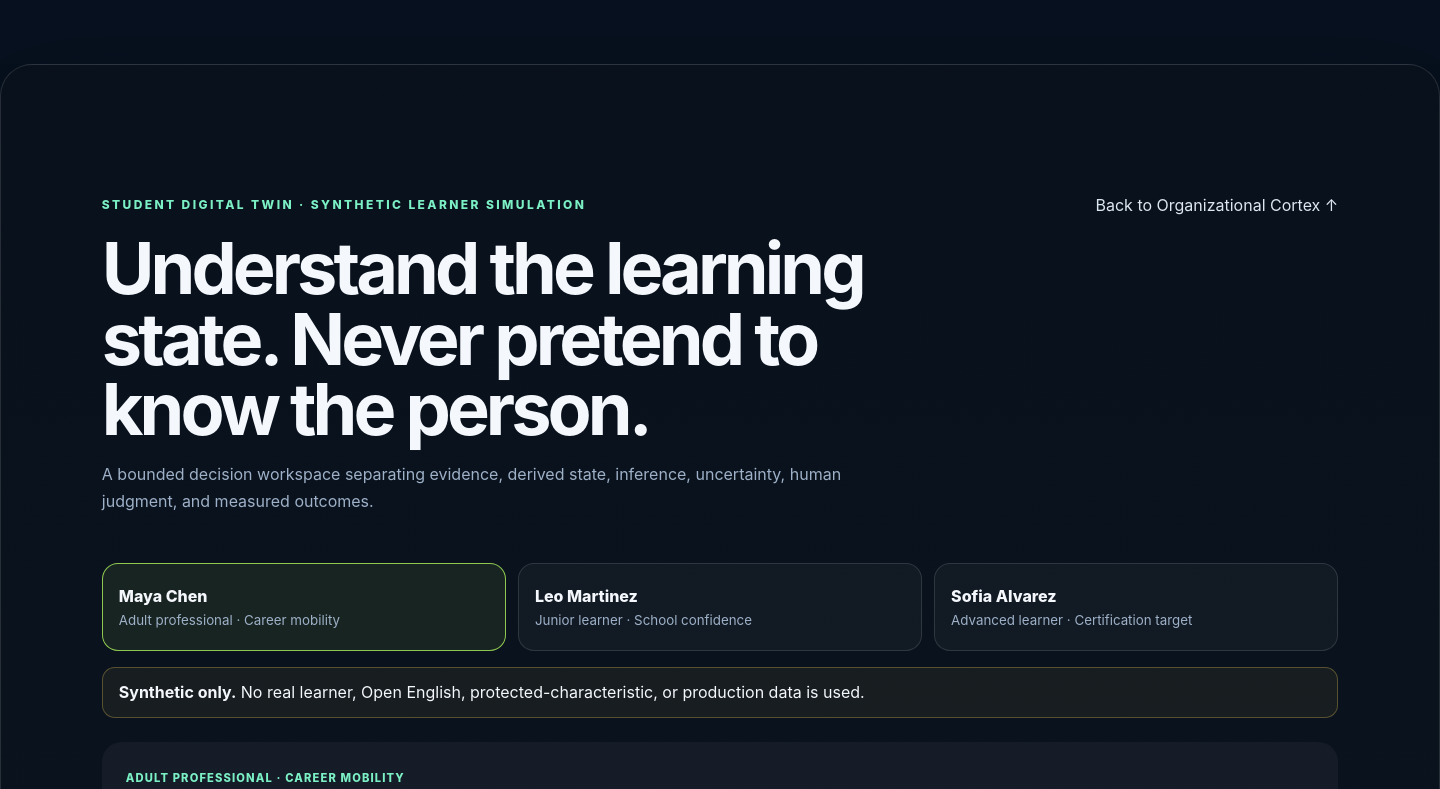
Student Digital Twin workspace › elevates age-aware safeguards for the junior learner
This screenshot has width=1440, height=789.
Click the tab "Leo Martinez Junior learner · School confidence".
click(586, 596)  # box [518,563,922,651]
(page scrolled)
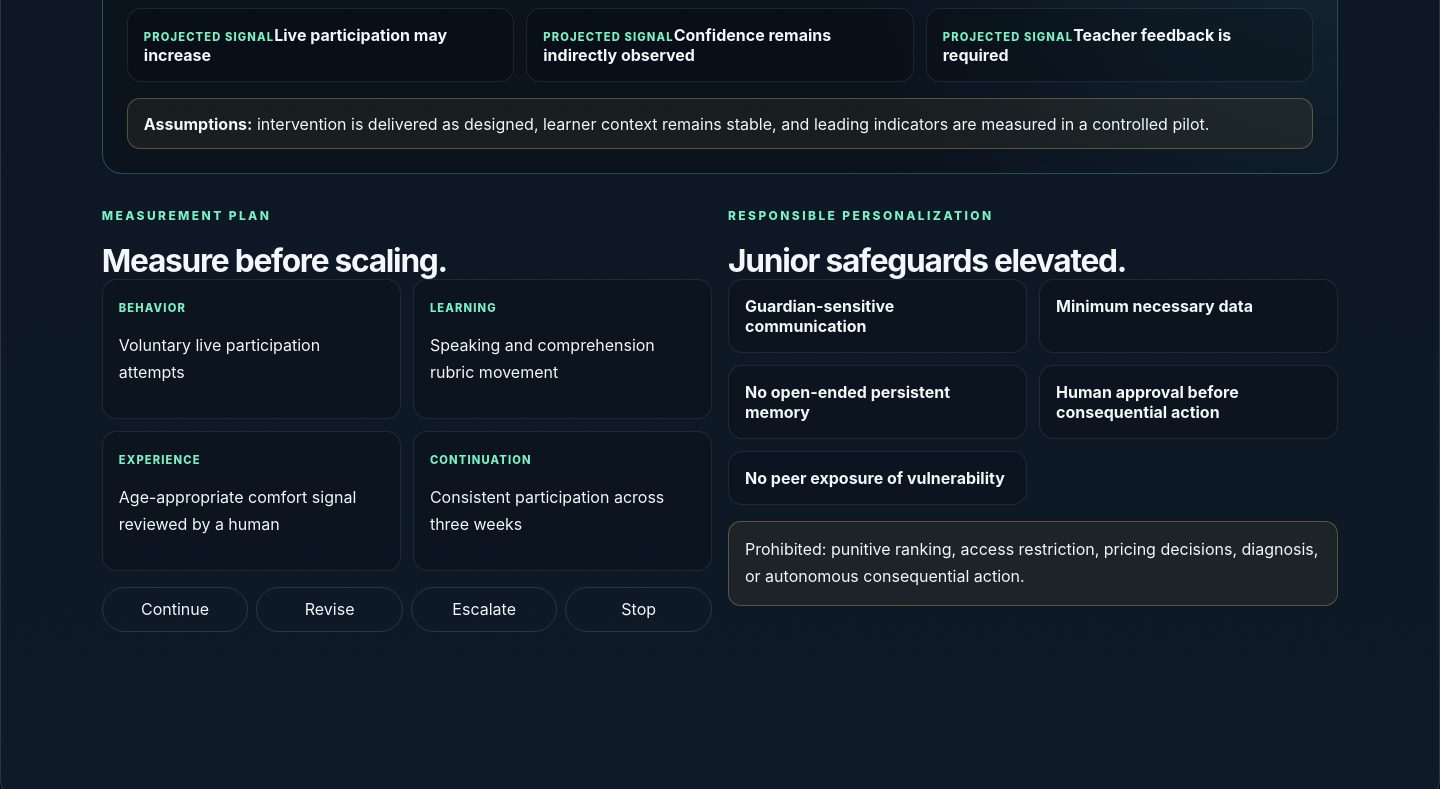
Check: the heading "Junior safeguards elevated." is shown, box [728,244,1126,278]
Check: the text "Guardian-sensitive communication" is shown, box [745,296,894,336]
Check: the text "Minimum necessary data" is shown, box [1056,296,1253,316]
